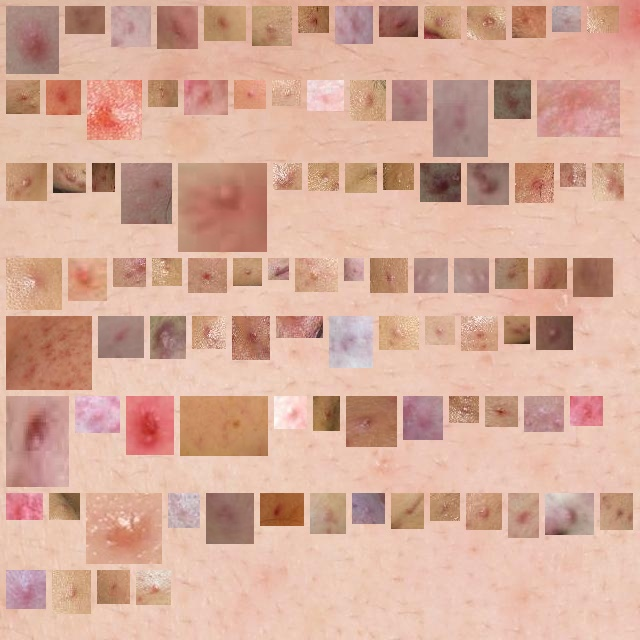papule: (186, 171, 259, 244), (14, 324, 84, 382), (14, 404, 61, 479), (94, 501, 154, 556), (188, 404, 260, 448), (545, 88, 612, 129), (441, 88, 480, 149), (14, 14, 51, 66), (95, 88, 134, 132), (129, 171, 164, 216), (14, 266, 54, 302), (134, 404, 166, 447), (354, 404, 389, 439), (214, 501, 246, 536), (337, 324, 365, 360), (553, 501, 586, 527), (106, 324, 136, 350), (475, 171, 501, 197), (165, 14, 190, 41), (411, 404, 435, 432), (60, 578, 83, 606), (76, 266, 99, 293), (240, 324, 262, 352), (83, 404, 112, 425), (119, 14, 143, 39), (260, 14, 284, 38), (428, 171, 453, 194), (523, 171, 546, 195), (581, 266, 605, 289), (14, 578, 38, 601), (14, 171, 39, 193), (158, 324, 178, 351), (192, 88, 220, 107), (358, 88, 378, 113), (318, 501, 338, 526), (212, 14, 238, 33), (303, 266, 330, 284), (343, 14, 365, 36), (502, 88, 523, 111), (532, 404, 556, 424), (268, 501, 296, 518), (400, 88, 419, 113), (196, 266, 219, 285), (516, 501, 531, 530), (284, 316, 315, 330), (387, 324, 411, 342), (474, 501, 494, 522), (378, 266, 400, 285), (475, 14, 498, 32), (469, 324, 490, 343), (544, 324, 565, 342), (54, 88, 73, 107), (462, 266, 481, 285), (144, 578, 163, 597), (432, 14, 453, 31), (608, 501, 625, 522), (600, 171, 616, 193), (387, 14, 410, 29), (422, 266, 440, 285), (399, 501, 416, 521), (14, 88, 32, 106), (315, 88, 336, 103), (200, 324, 218, 341), (105, 578, 122, 596), (176, 501, 192, 520), (282, 404, 299, 421), (73, 14, 97, 26), (520, 14, 538, 30), (503, 266, 520, 281), (542, 266, 559, 281), (493, 404, 510, 419), (360, 501, 377, 516), (61, 171, 78, 185), (578, 404, 595, 418), (14, 501, 35, 512), (353, 171, 369, 185), (121, 266, 138, 279), (321, 404, 332, 423), (242, 88, 258, 101), (433, 324, 447, 337), (316, 171, 331, 183), (595, 14, 611, 25), (160, 266, 174, 278), (438, 501, 452, 513), (306, 14, 321, 25), (391, 171, 406, 182), (57, 501, 72, 512), (241, 266, 254, 278), (156, 88, 170, 99), (457, 404, 471, 415), (281, 171, 294, 182), (560, 14, 573, 24), (280, 88, 293, 98), (512, 324, 522, 336), (100, 171, 107, 184), (568, 171, 578, 179), (276, 266, 281, 272), (352, 266, 356, 273)
